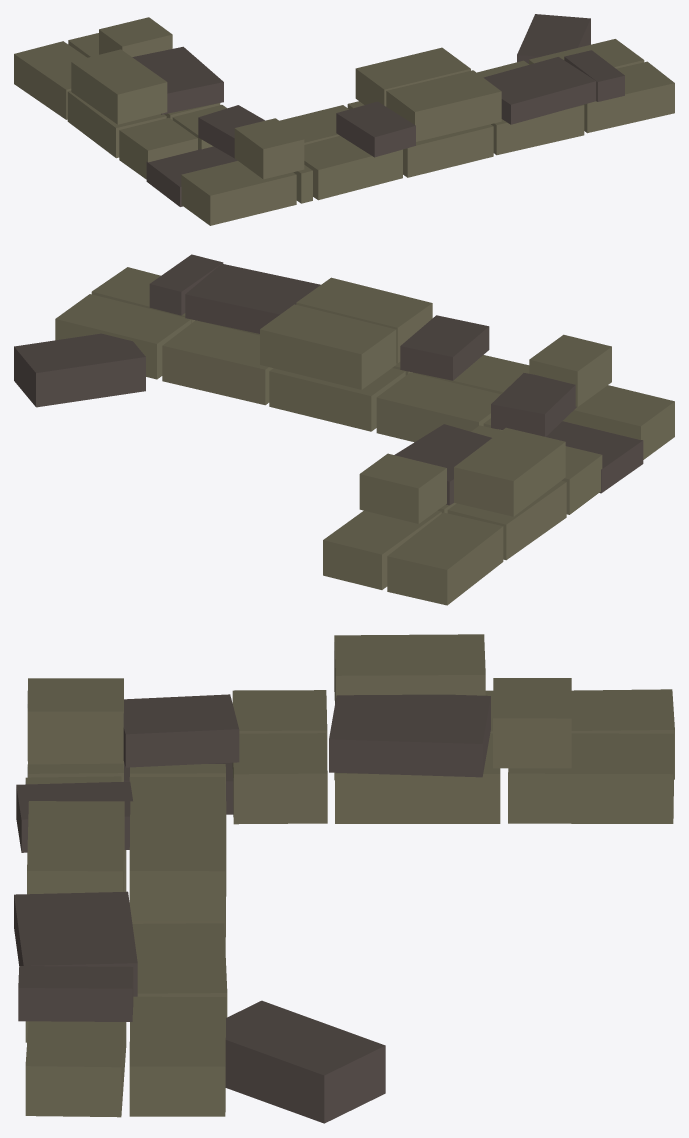
The model's file is SM_PretilEsquinaPaso_v1_Talud_e2_MuyDanado_LOD0.fbx.
The picture shows the model from 3 angles, top to bottom: view 1: azimuth 30°, elevation 25°; view 2: azimuth 150°, elevation 25°; view 3: azimuth 270°, elevation 25°; orthographic projection. The views are drawn at different scales.
Visible parts, largest first — view 1: SM_pretil_azotea_v46_LOD0; view 2: SM_pretil_azotea_v46_LOD0; view 3: SM_pretil_azotea_v46_LOD0.
Part boxes in pixels (x1,y1,x2,y2): SM_pretil_azotea_v46_LOD0: (14, 14, 674, 225); SM_pretil_azotea_v46_LOD0: (14, 254, 674, 605); SM_pretil_azotea_v46_LOD0: (14, 634, 674, 1123).
Size of the model in its own units: 4.43 by 0.585 by 3.24.
